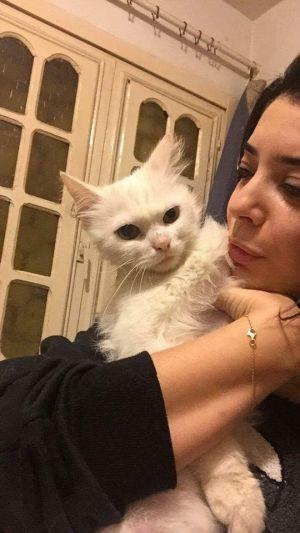persian: (62, 131, 208, 281)
